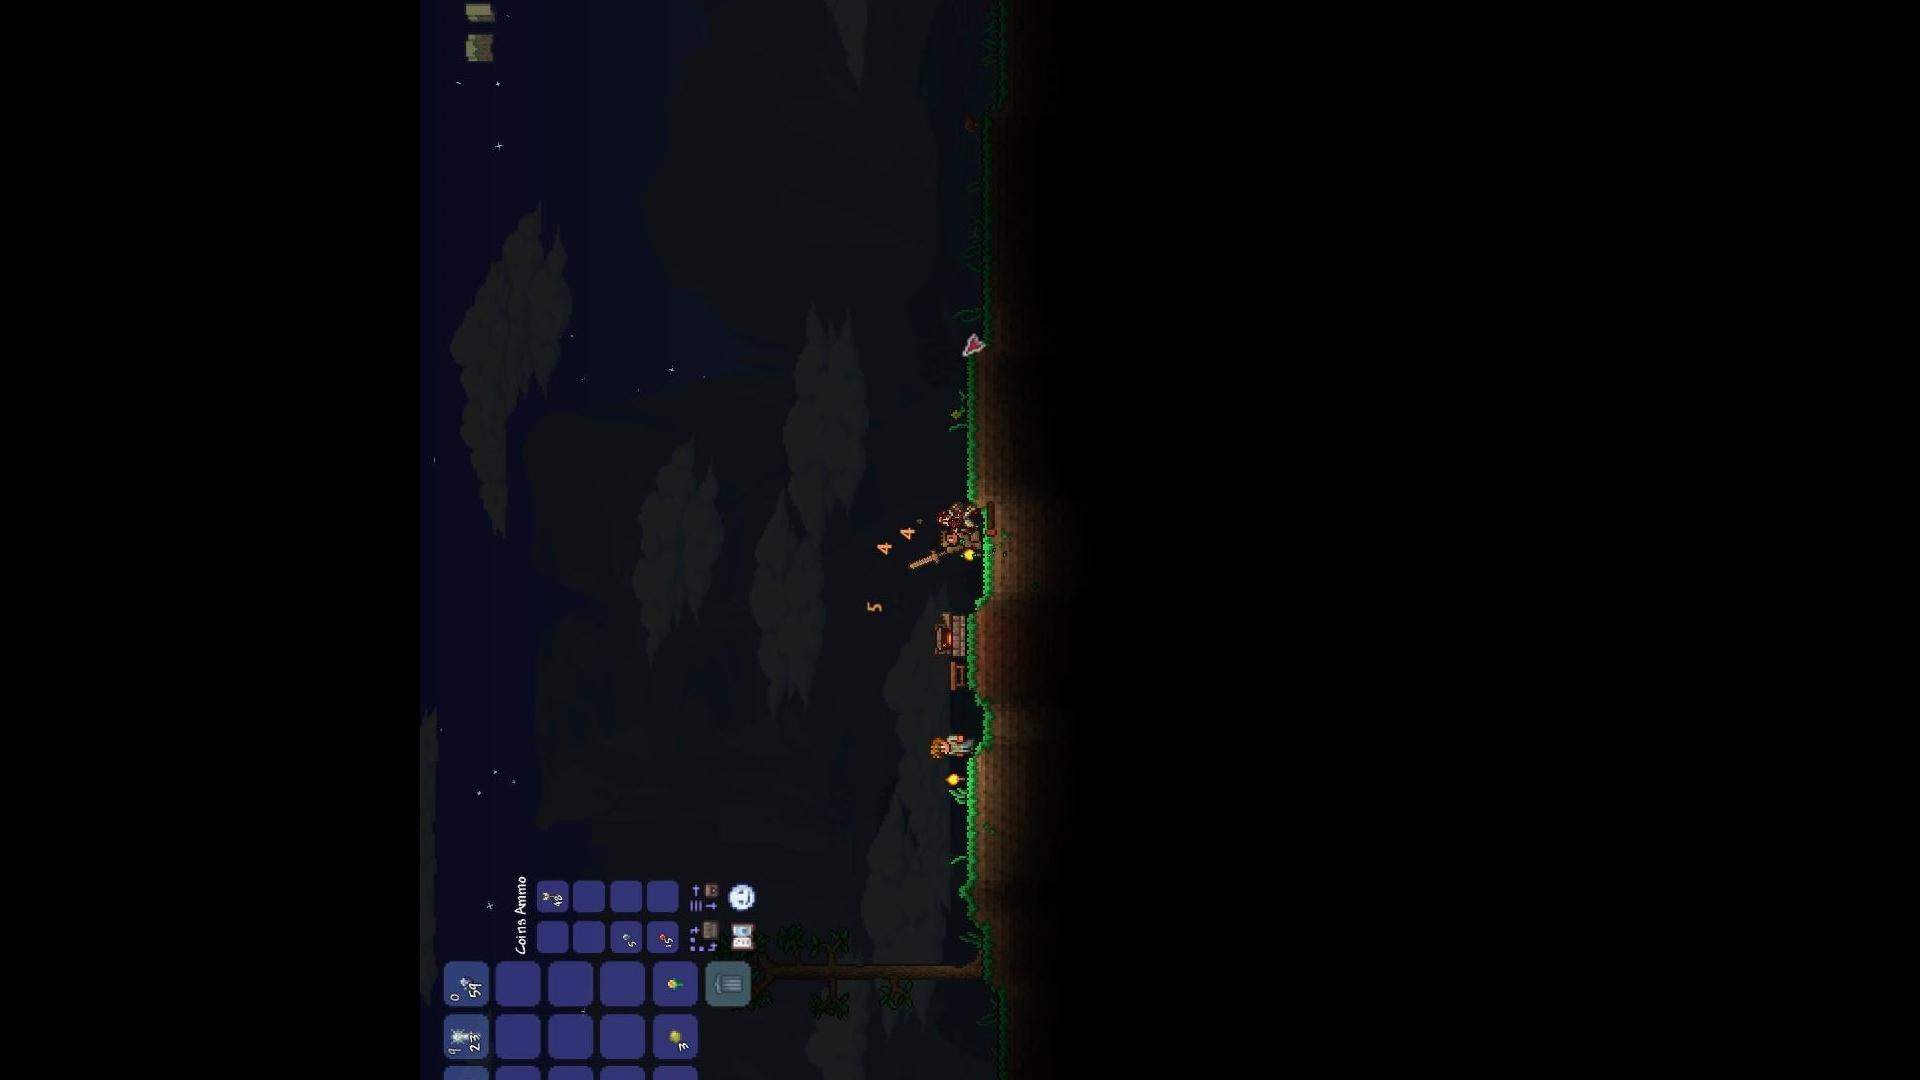arrow: (539, 889, 564, 901)
furnace: (931, 612, 964, 662)
gel: (665, 1026, 684, 1044)
rope: (448, 1025, 477, 1046)
